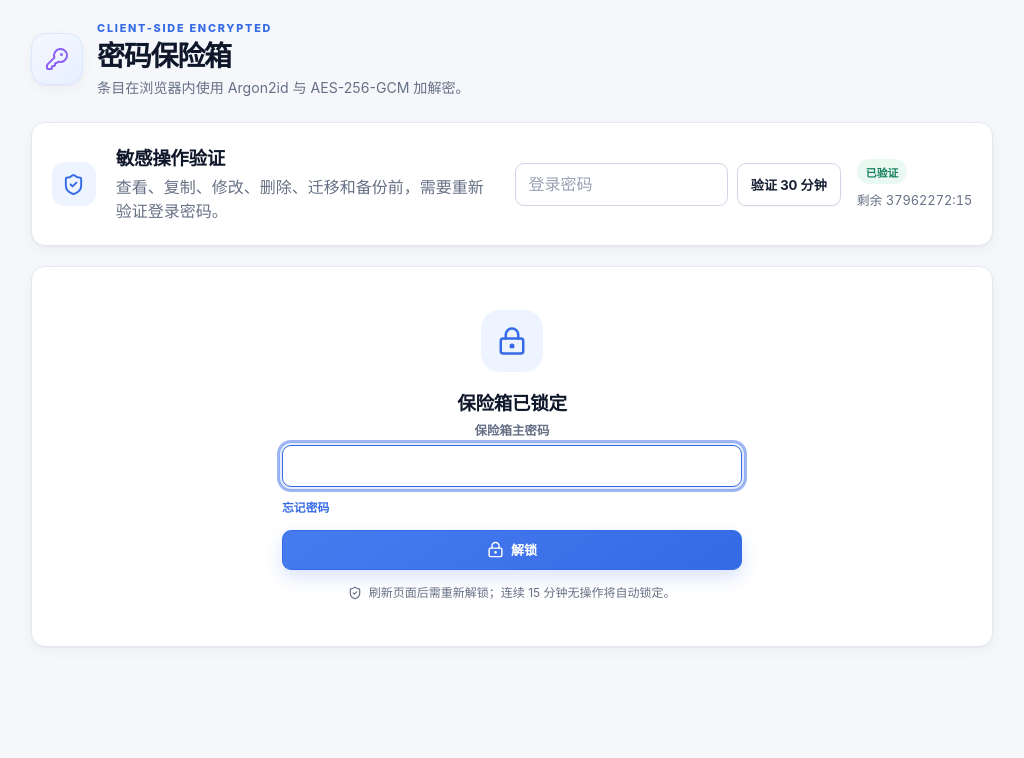
Test case: vault complete loading, pagination and favorites › toggles a revealed password back to masked without affecting other cards
The image size is (1024, 758).
Step 1. Type "long-master-password" into the password field labelled "保险箱主密码" → (512, 466), box left=282, top=445, right=742, bottom=487
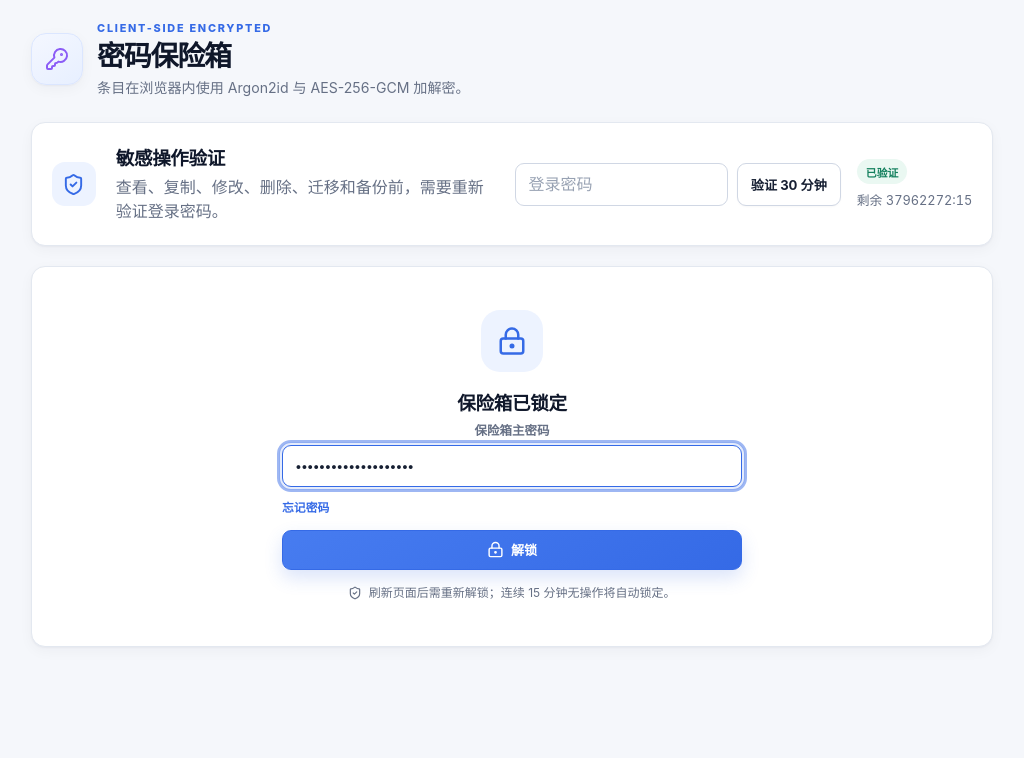
Step 2. Submit the form labelled "保险箱主密码", box left=282, top=421, right=742, bottom=570
(page scrolled)
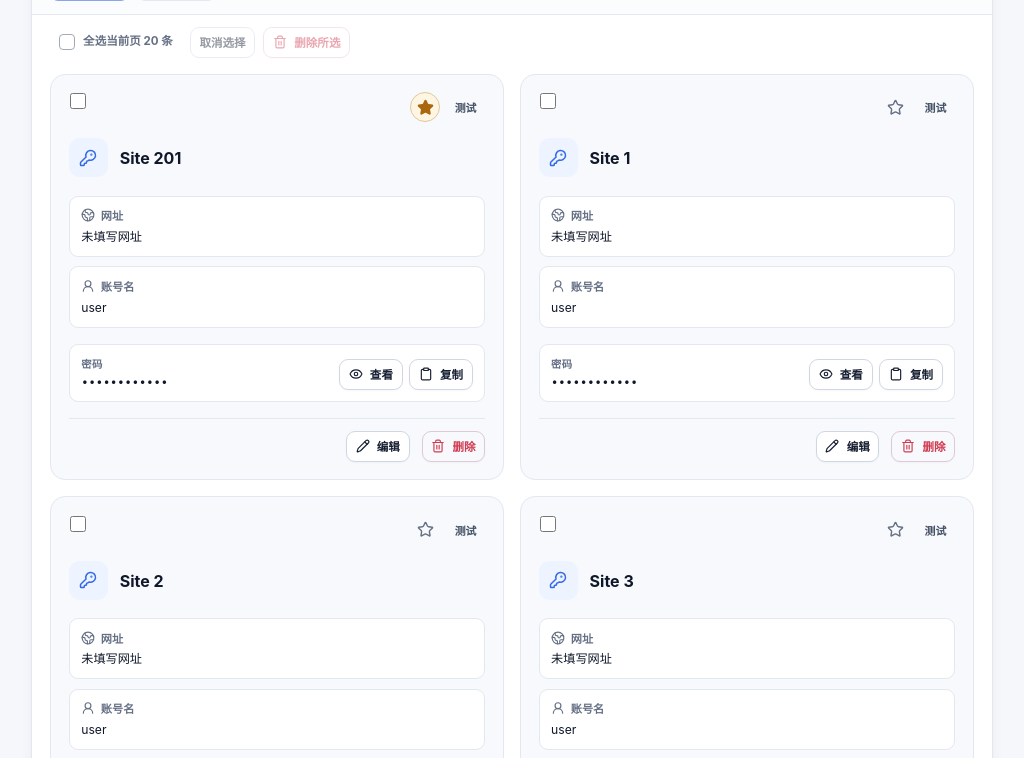
Step 3. Click the 2nd button "查看" → (841, 374), box left=809, top=358, right=873, bottom=390
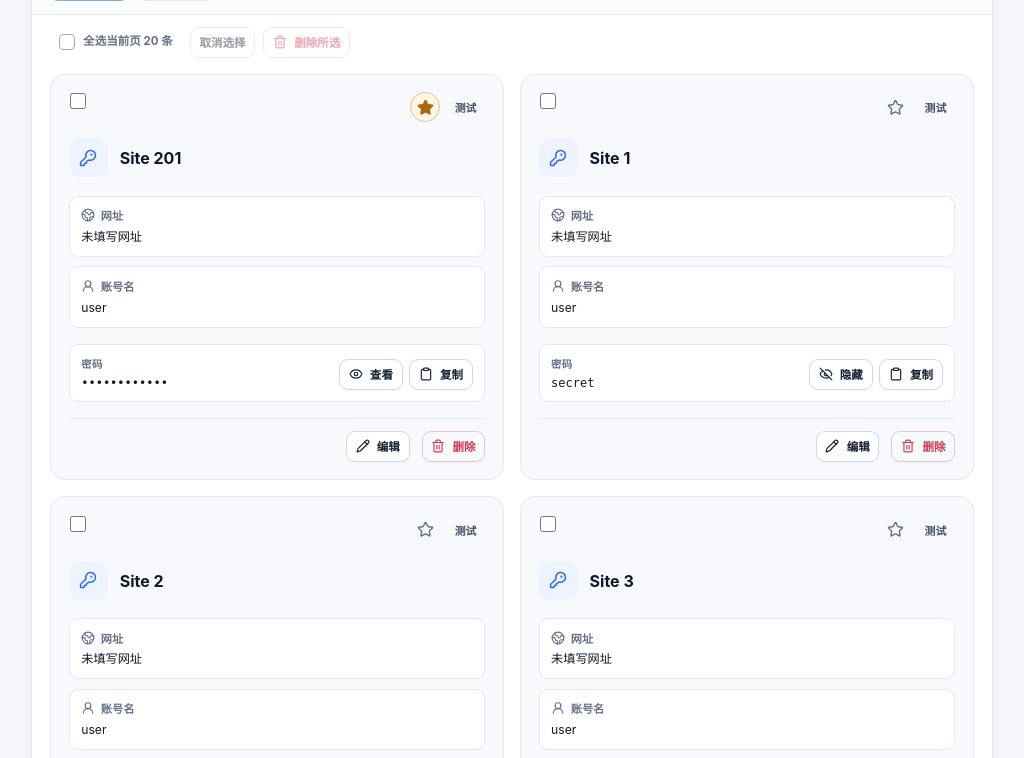
Result: the text "secret" is shown at left=551, top=376, right=594, bottom=390
Step 4. Click the button "隐藏" → (841, 374), box left=809, top=358, right=873, bottom=390
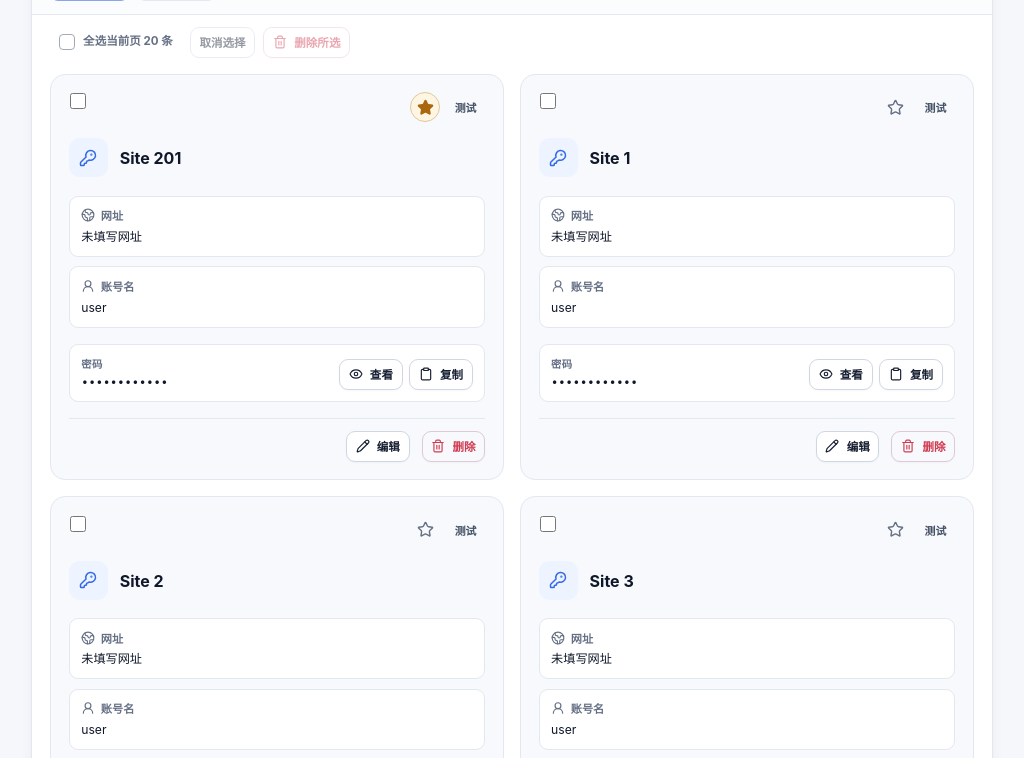
Result: the text "secret" is gone
